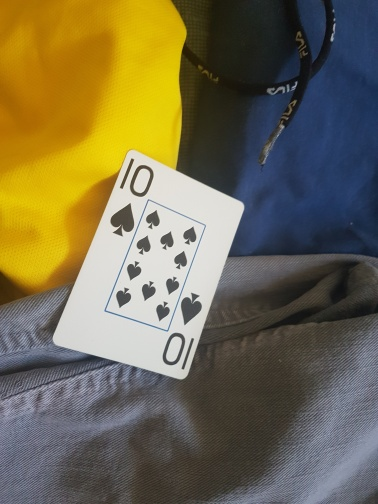ten: (52, 149, 243, 379)
